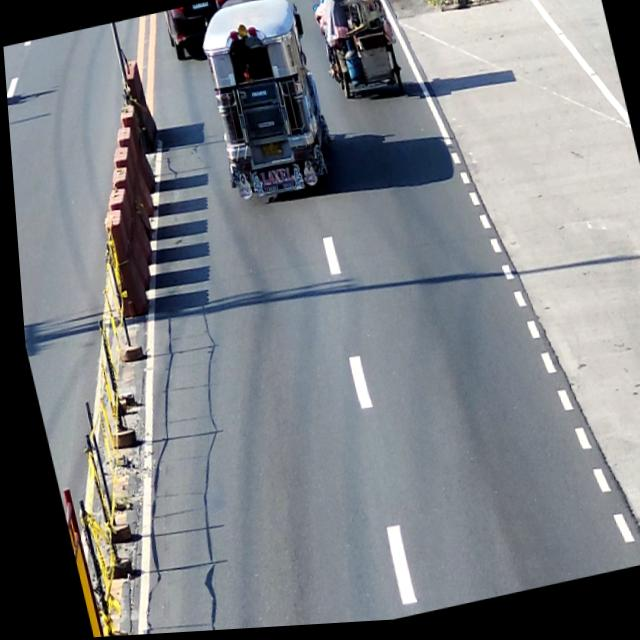Car: (162, 0, 243, 66)
Jeep: (194, 0, 341, 216)
License-Plate: (257, 144, 281, 162), (191, 4, 209, 12)
Tricycle: (307, 0, 404, 108)
